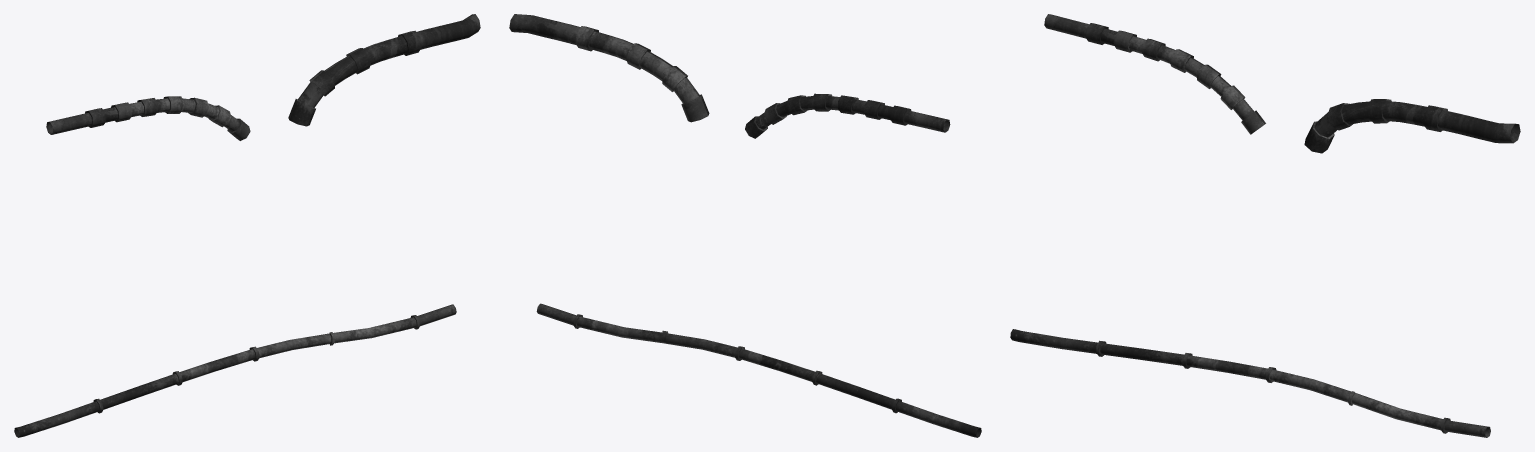
Rendered from Pipes4.fbx.
3 renders of one model, left to right at view 1: azimuth 30°, elevation 25°; view 2: azimuth 150°, elevation 25°; view 3: azimuth 330°, elevation 25°, orthographic. The views are drawn at different scales.
Visible parts, largest first — view 1: Pipes5; view 2: Pipes5; view 3: Pipes5.
Part boxes in pixels (x1,y1,x2,y2): Pipes5: (14, 14, 480, 437); Pipes5: (509, 14, 981, 437); Pipes5: (1010, 14, 1520, 437).
Size of the model in its own units: 143 by 92.19 by 7.35.
